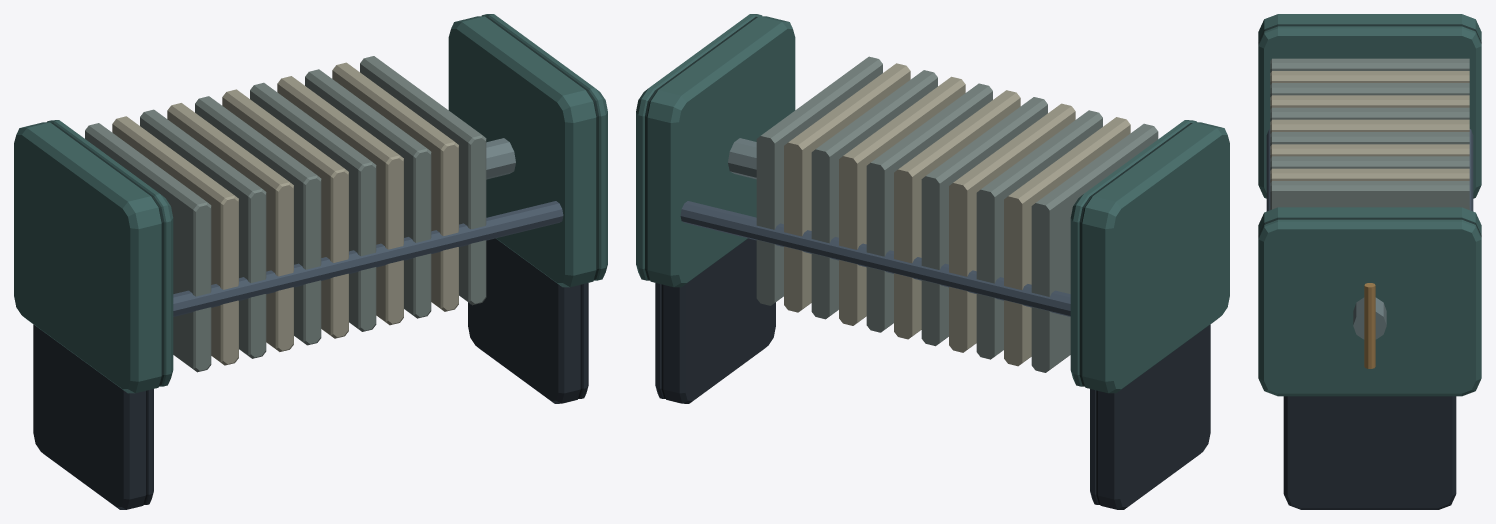
The model's file is E-04_filter_press.glb.
The picture shows the model from 3 angles, left to right: view 1: azimuth 30°, elevation 25°; view 2: azimuth 150°, elevation 25°; view 3: azimuth 270°, elevation 25°; orthographic projection. The views are drawn at different scales.
Parts seen in each view (by area): view 1: E-04_filter_press; view 2: E-04_filter_press; view 3: E-04_filter_press.
Part boxes in pixels (left/top/right/bottom): E-04_filter_press: left=14, top=14, right=607, bottom=509; E-04_filter_press: left=636, top=14, right=1229, bottom=509; E-04_filter_press: left=1258, top=14, right=1481, bottom=509.
Bounding box in the file's own units: 1.16 × 0.6865 × 0.478.
